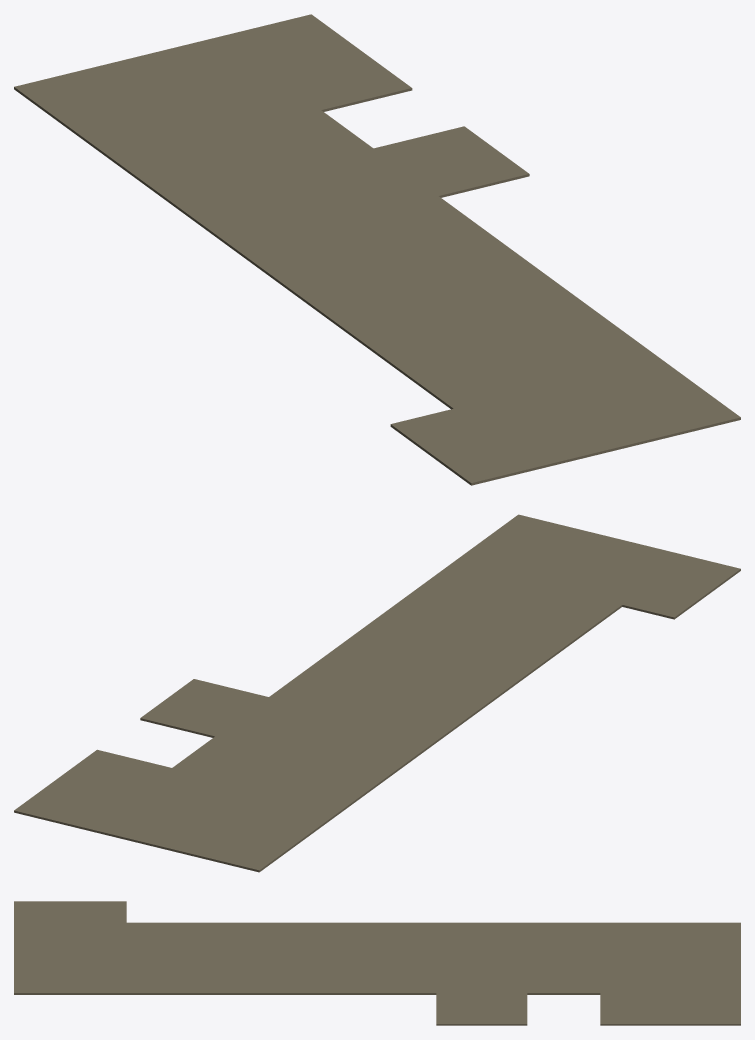
Rendered from TempleTile_B.fbx.
The picture shows the model from 3 angles, top to bottom: view 1: azimuth 30°, elevation 25°; view 2: azimuth 150°, elevation 25°; view 3: azimuth 270°, elevation 25°; orthographic projection. The views are drawn at different scales.
Parts seen in each view (by area): view 1: TempleTile_B; view 2: TempleTile_B; view 3: TempleTile_B.
Boxes of the visible parts, x1,y1,x2,y2 form: TempleTile_B: (14, 14, 740, 485); TempleTile_B: (14, 514, 740, 872); TempleTile_B: (14, 901, 740, 1025).
Size of the model in its own units: 2516 by 16.73 by 6289.
